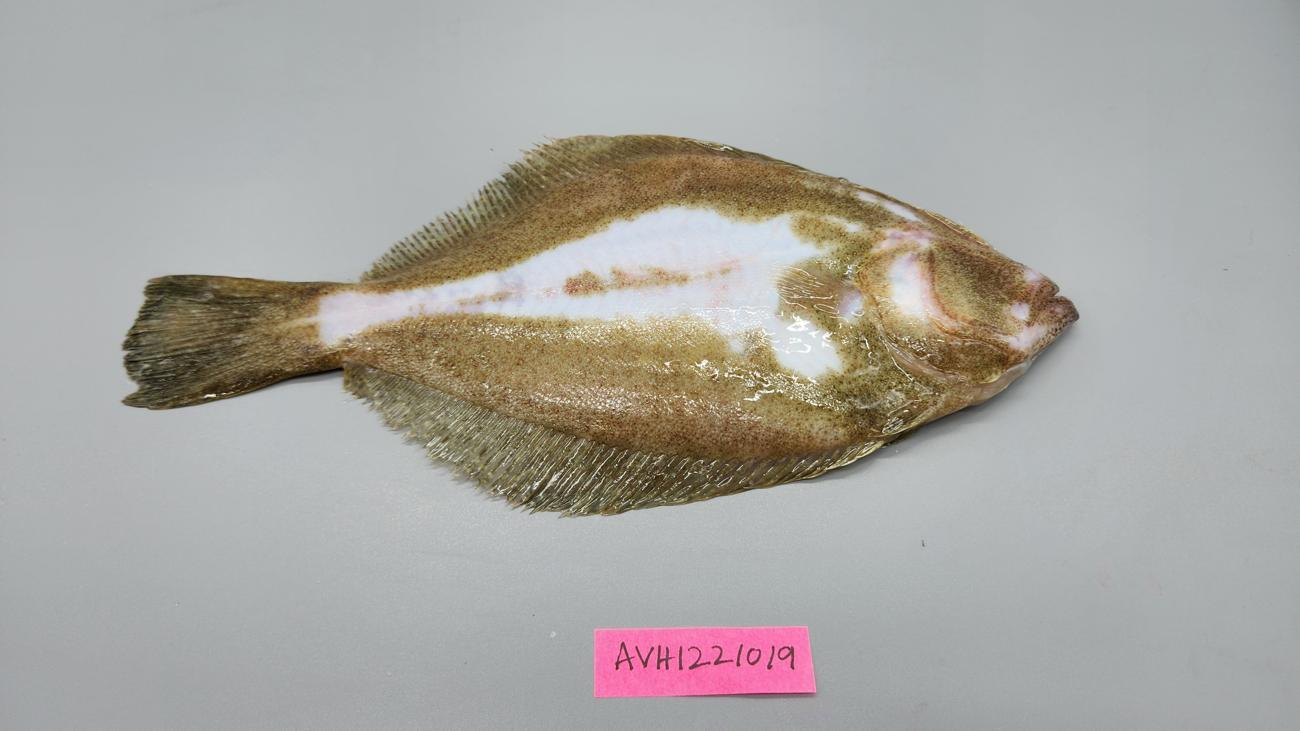VIDYH: (802, 217, 939, 316), (543, 266, 688, 298), (704, 258, 744, 335), (299, 343, 392, 371)
VIOUY: (120, 131, 1086, 519)
